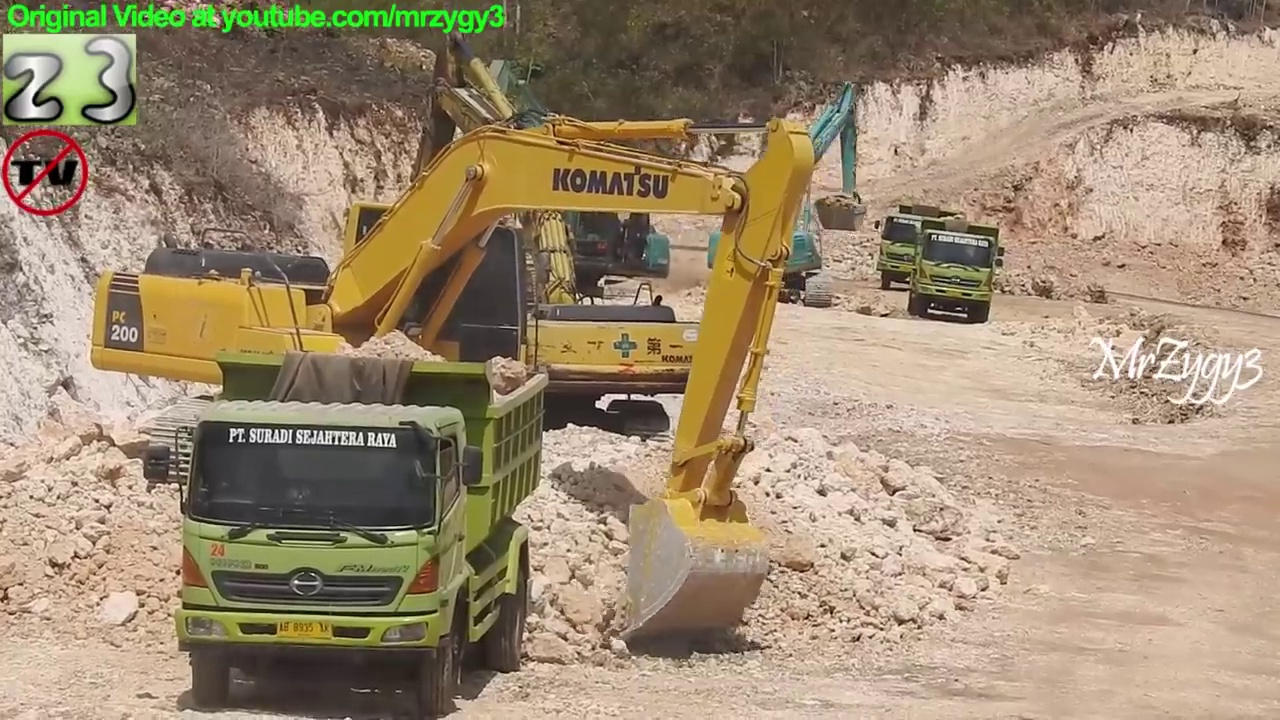excavator: (89, 110, 820, 647), (348, 30, 733, 465), (447, 55, 674, 312), (705, 78, 871, 310)
truck: (141, 350, 548, 714), (902, 212, 1007, 327), (871, 200, 968, 293)
